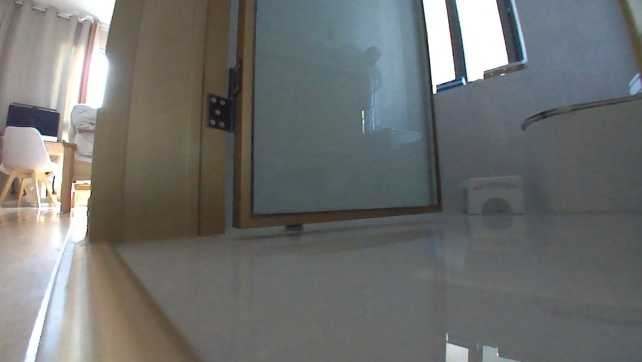door_anno: (81, 0, 445, 245)
door_sill: (32, 240, 205, 360)
toilet: (519, 73, 640, 212)
